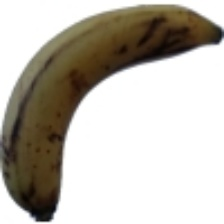banana: (20, 10, 175, 193)
